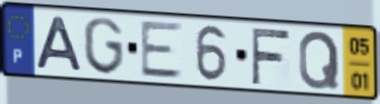6: (193, 23, 230, 84)
A: (34, 14, 85, 74)
E: (138, 20, 186, 80)
F: (249, 26, 293, 87)
G: (81, 16, 126, 78)
Q: (296, 29, 342, 92)
